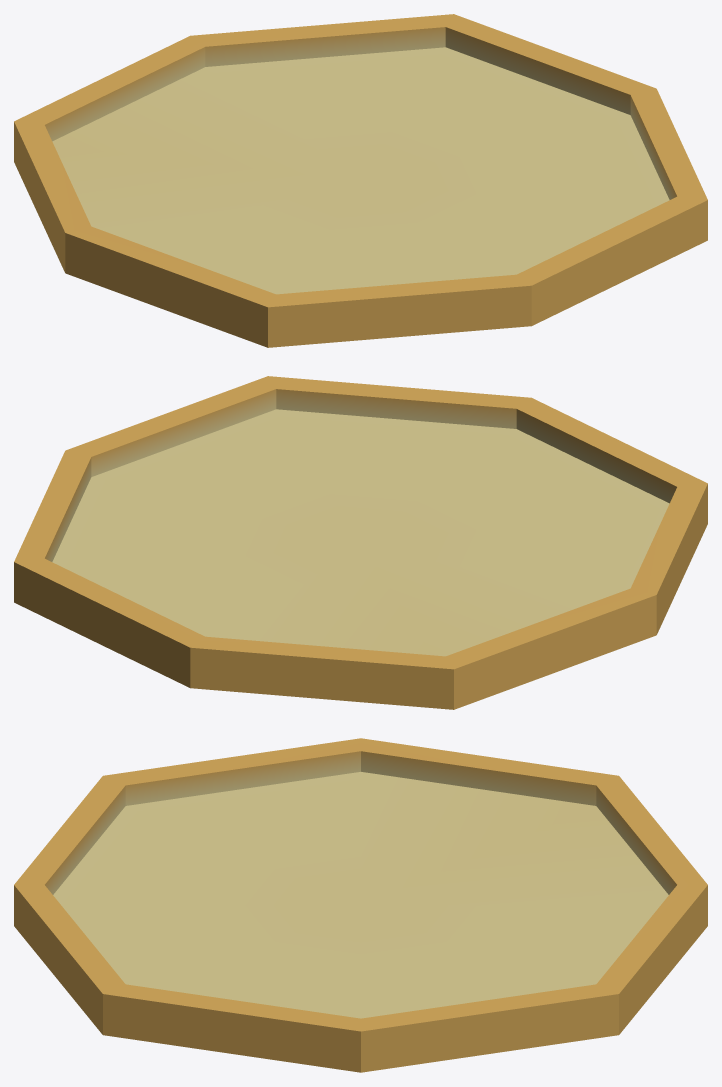
Rendered from Coin.fbx.
3 renders of one model, top to bottom at view 1: azimuth 30°, elevation 25°; view 2: azimuth 150°, elevation 25°; view 3: azimuth 270°, elevation 25°, orthographic.
Visible parts, largest first — view 1: Coin; view 2: Coin; view 3: Coin.
Part boxes in pixels (left/top/right/bottom): Coin: left=14, top=14, right=707, bottom=347; Coin: left=14, top=376, right=707, bottom=709; Coin: left=14, top=738, right=707, bottom=1072.
Size of the model in its own units: 295 by 19.3 by 295.
